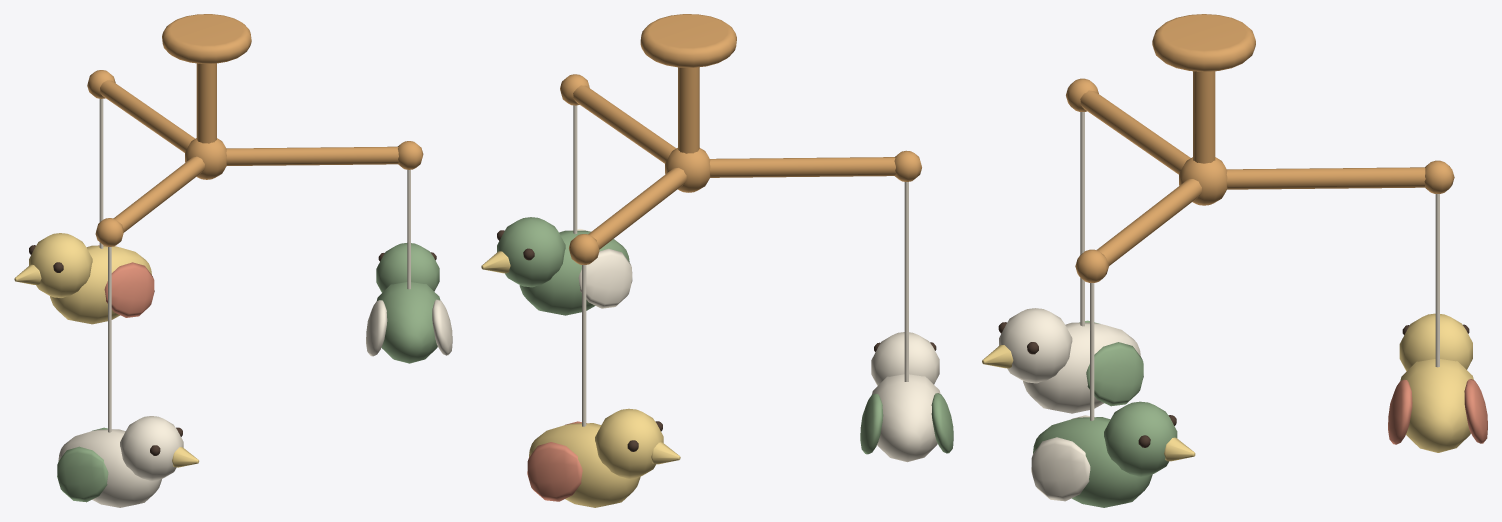
The model's file is 10-bird-mobile.glb.
3 renders of one model, left to right at view 1: azimuth 30°, elevation 25°; view 2: azimuth 150°, elevation 25°; view 3: azimuth 270°, elevation 25°, orthographic. The views are drawn at different scales.
Parts seen in each view (by area): view 1: 10-bird-mobile_mesh; view 2: 10-bird-mobile_mesh; view 3: 10-bird-mobile_mesh.
Part boxes in pixels (<box>): 10-bird-mobile_mesh: <box>14,14,452,507</box>; 10-bird-mobile_mesh: <box>481,14,953,507</box>; 10-bird-mobile_mesh: <box>982,14,1487,507</box>.
Size of the model in its own units: 0.8171 by 0.78 by 0.7796.
